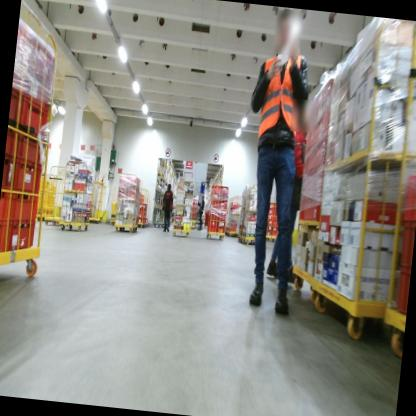small_load_carrier: (21, 30, 62, 107), (18, 90, 54, 143), (11, 152, 45, 198), (12, 23, 35, 89), (17, 128, 49, 170), (392, 216, 415, 271), (7, 218, 40, 256), (9, 189, 40, 223), (390, 263, 411, 313), (398, 170, 416, 225), (7, 86, 26, 130), (4, 125, 21, 163), (1, 151, 16, 189), (0, 188, 17, 219), (0, 219, 13, 257), (219, 185, 230, 196), (209, 200, 220, 210), (218, 202, 228, 213), (208, 209, 218, 219), (211, 184, 222, 193), (210, 192, 221, 201), (230, 200, 239, 210), (215, 226, 225, 234), (216, 219, 226, 227), (217, 212, 227, 220), (219, 195, 229, 203), (228, 219, 238, 227), (208, 219, 217, 227), (138, 194, 145, 204), (226, 227, 237, 233), (266, 207, 274, 215), (207, 227, 217, 233), (267, 201, 274, 208), (272, 220, 279, 227), (273, 203, 279, 211), (138, 208, 146, 214), (137, 218, 145, 224), (137, 213, 146, 218), (266, 214, 273, 220), (265, 219, 272, 225), (265, 231, 272, 237), (272, 226, 279, 232), (266, 225, 272, 231), (273, 211, 279, 217), (138, 204, 147, 208), (271, 232, 278, 237), (273, 217, 279, 221), (144, 218, 147, 223)
